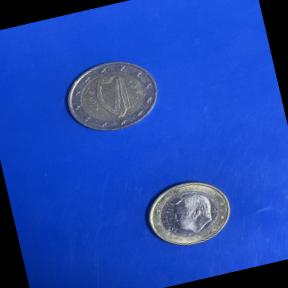coin: (51, 48, 171, 145), (132, 164, 242, 258)
